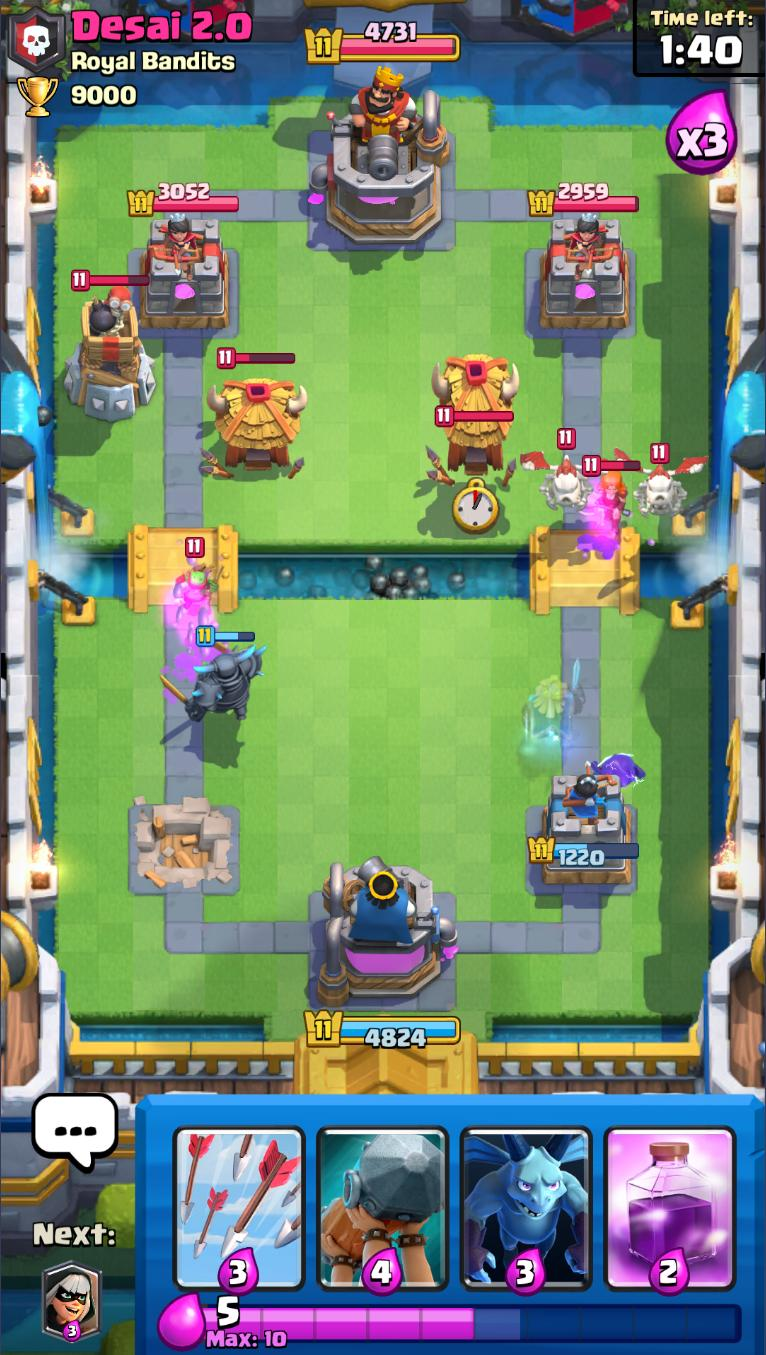ArrowDeck: (165, 1096, 307, 1295)
BanditNext: (43, 1263, 103, 1344)
BattleRamDeck: (311, 1097, 454, 1295)
BombTower: (61, 268, 156, 422)
Elixir: (202, 1295, 745, 1352)
EnemyTower: (137, 214, 231, 333), (538, 214, 632, 331)
GoblinHut: (203, 347, 310, 481), (423, 355, 520, 496)
KingTower: (309, 80, 454, 248)
KingTowerHP: (304, 27, 462, 65)
MinionsDeck: (454, 1097, 600, 1294)
MyElectroSpirit: (585, 749, 647, 790)
MyKingHP: (302, 1006, 463, 1051)
MyKingTower: (318, 855, 460, 1009)
MyPekka: (159, 625, 270, 725)
MyPrincessTower: (526, 768, 642, 889)
MyPrincessTowerBrocken: (126, 794, 242, 899)
MyPrincessTowerHP: (527, 835, 642, 867)
MyRoyaleGhost: (517, 654, 588, 749)
PrincessTower: (549, 214, 604, 275), (152, 214, 202, 273)
RageDeck: (600, 1097, 744, 1294)
SkeletonDragon: (615, 443, 709, 521), (516, 428, 590, 515)
SpearGoblin: (170, 536, 224, 611)
TowerPrincessHP: (127, 180, 241, 217), (527, 181, 640, 216)
Valkyrie: (581, 455, 633, 532)
